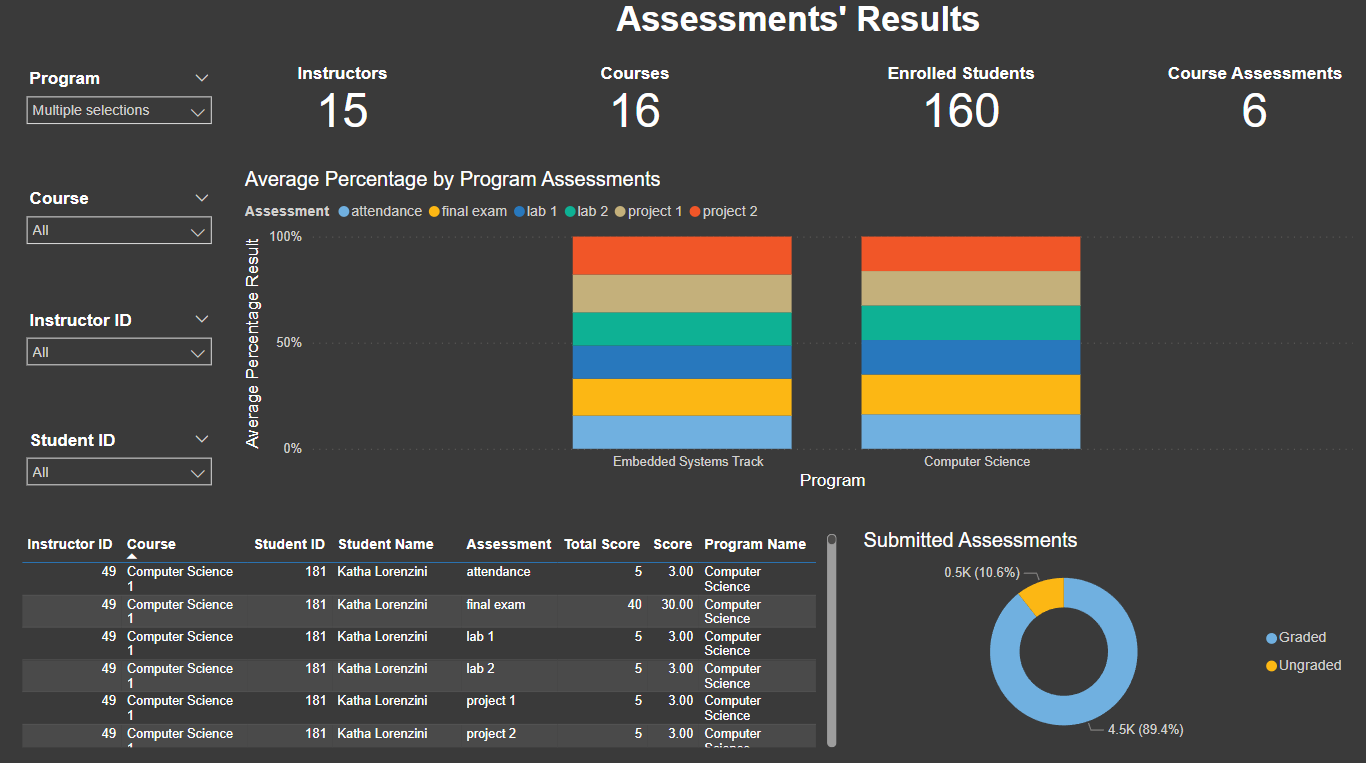

This screenshot's page, from the dashboard's own definition file:
{"tool":"powerbi","page":{"name":"Assessments' Results","canvas":[1280,720],"ordinal":2},"visuals":[{"type":"tableEx","fields":{"Values":["v_Instructor_Course_Student_Assessment_Scores.instructor_id","v_Instructor_Course_Student_Assessment_Scores.course_name","v_Instructor_Course_Student_Assessment_Scores.student_id","v_Instructor_Course_Student_Assessment_Scores.student_name","v_Instructor_Course_Student_Assessment_Scores.assessment_name","v_Instructor_Course_Student_Assessment_Scores.assessment_total_score","v_Instructor_Course_Student_Assessment_Scores.student_score","v_Instructor_Course_Student_Assessment_Scores.program_name"]},"box":[16,496,768,208],"z":0},{"type":"slicer","fields":{"Values":["v_Instructor_Course_Student_Assessment_Scores.course_name"]},"box":[16,176,192,64],"z":1000},{"type":"slicer","fields":{"Values":["v_Instructor_Course_Student_Assessment_Scores.program_name"]},"box":[16,64,192,64],"z":2000},{"type":"slicer","fields":{"Values":["v_Instructor_Course_Student_Assessment_Scores.student_id"]},"box":[16,400,192,64],"z":3000},{"type":"slicer","fields":{"Values":["v_Instructor_Course_Student_Assessment_Scores.instructor_id"]},"box":[16,288,192,64],"z":4000},{"type":"donutChart","title":"Submitted Assessments","fields":{"Y":["v_Instructor_Course_Student_Assessment_Scores.student_score","v_Instructor_Course_Student_Assessment_Scores.graded courses"]},"box":[800,496,464,208],"z":5000},{"type":"card","title":"Courses","fields":{"Values":["v_Instructor_Course_Student_Assessment_Scores.course_id"]},"box":[496,64,192,64],"z":6000},{"type":"card","title":"Enrolled Students","fields":{"Values":["v_Instructor_Course_Student_Assessment_Scores.student_id"]},"box":[800,64,192,64],"z":7000},{"type":"card","title":"Instructors","fields":{"Values":["v_Instructor_Course_Student_Assessment_Scores.instructor_id"]},"box":[224,64,192,64],"z":8000},{"type":"hundredPercentStackedColumnChart","title":"Average Percentage by Program Assessments","fields":{"Category":["v_Instructor_Course_Student_Assessment_Scores.program_name"],"Series":["v_Instructor_Course_Student_Assessment_Scores.assessment_name"],"Y":["v_Instructor_Course_Student_Assessment_Scores.result_percentage"]},"box":[224,160,1040,304],"z":9000},{"type":"card","title":"Course Assessments","fields":{"Values":["v_Instructor_Course_Student_Assessment_Scores.assessment_id"]},"box":[1072,64,192,64],"z":10000},{"type":"textbox","box":[224,0,1040,48],"z":11000}]}

Visuals, with their boxes in screenshot pixels (x1, y1, x2, y2), scaled from the page's 1280x720 canvas onto the 1366x763 screenshot:
tableEx - v_Instructor_Course_Student_Assessment_Scores.instructor_id x v_Instructor_Course_Student_Assessment_Scores.course_name: <bbox>17, 526, 837, 746</bbox>
slicer - v_Instructor_Course_Student_Assessment_Scores.course_name: <bbox>17, 187, 222, 254</bbox>
slicer - v_Instructor_Course_Student_Assessment_Scores.program_name: <bbox>17, 68, 222, 136</bbox>
slicer - v_Instructor_Course_Student_Assessment_Scores.student_id: <bbox>17, 424, 222, 492</bbox>
slicer - v_Instructor_Course_Student_Assessment_Scores.instructor_id: <bbox>17, 305, 222, 373</bbox>
"Submitted Assessments" donutChart: <bbox>854, 526, 1349, 746</bbox>
"Courses" card: <bbox>529, 68, 734, 136</bbox>
"Enrolled Students" card: <bbox>854, 68, 1059, 136</bbox>
"Instructors" card: <bbox>239, 68, 444, 136</bbox>
"Average Percentage by Program Assessments" hundredPercentStackedColumnChart: <bbox>239, 170, 1349, 492</bbox>
"Course Assessments" card: <bbox>1144, 68, 1349, 136</bbox>
textbox: <bbox>239, 0, 1349, 51</bbox>
